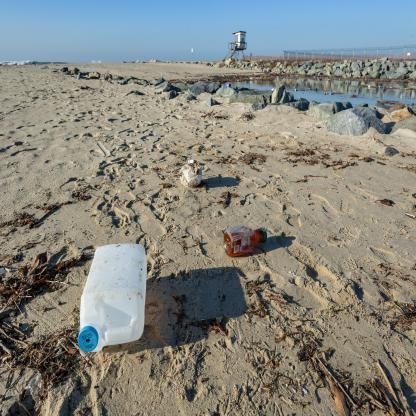plastic bottle: (78, 244, 147, 350)
